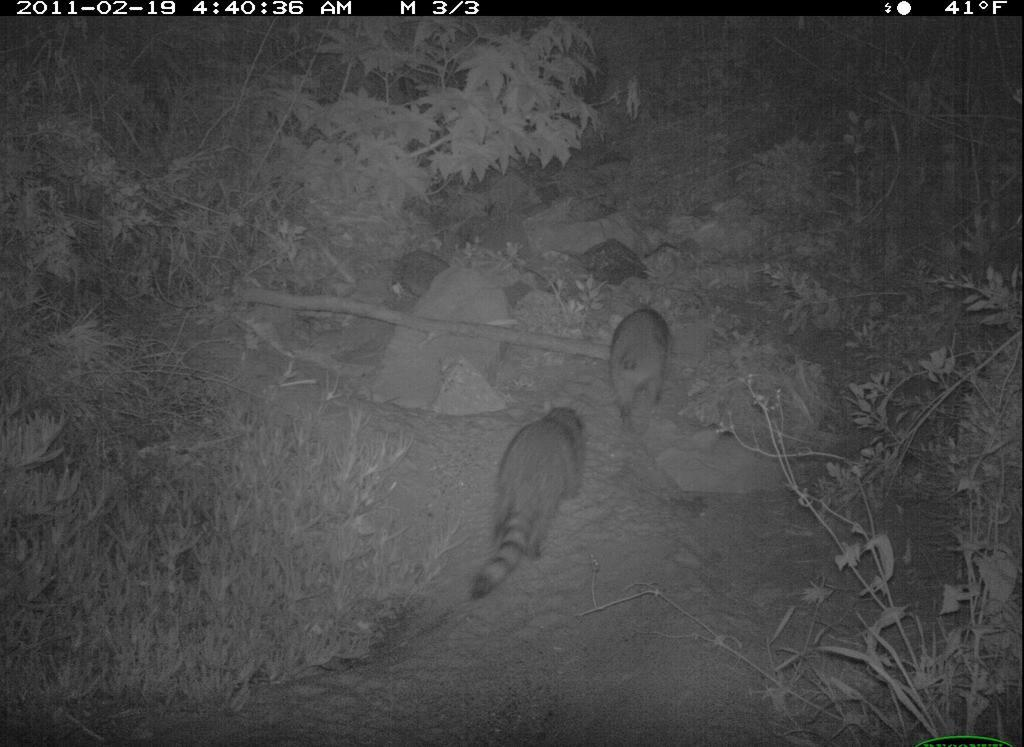raccoon: (469, 402, 596, 605), (593, 299, 693, 428)
